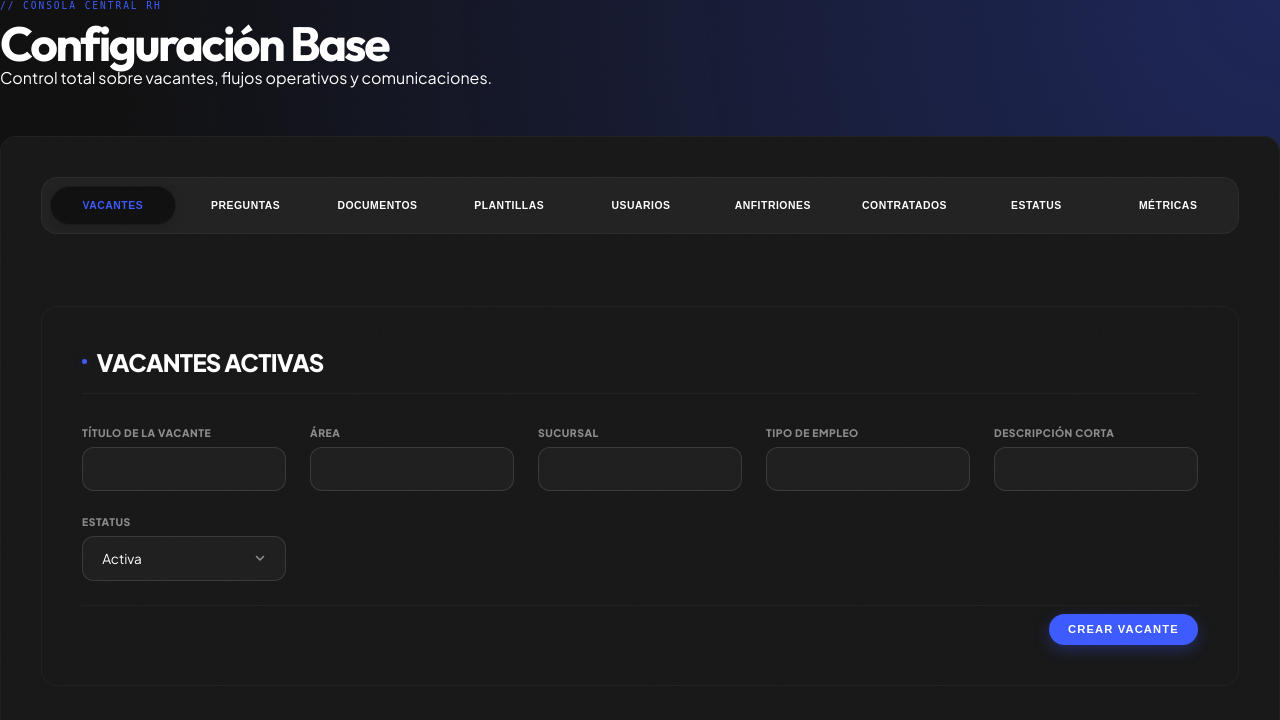
Test: CrmAdmin › cambia a pestaña Plantillas
Step 1. Click the button "Plantillas" → point(509, 205), box [447,186,571,225]
(page scrolled)
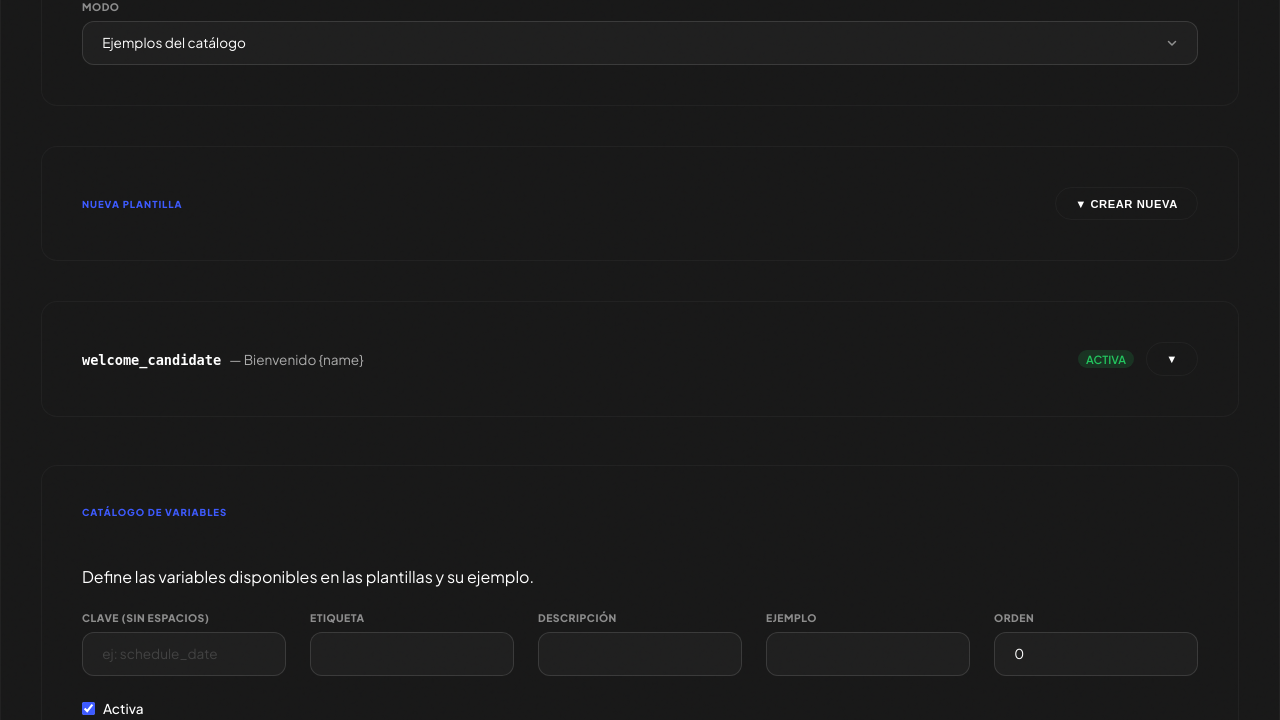
Result: the text "welcome_candidate" is shown at [82,352,221,368]
